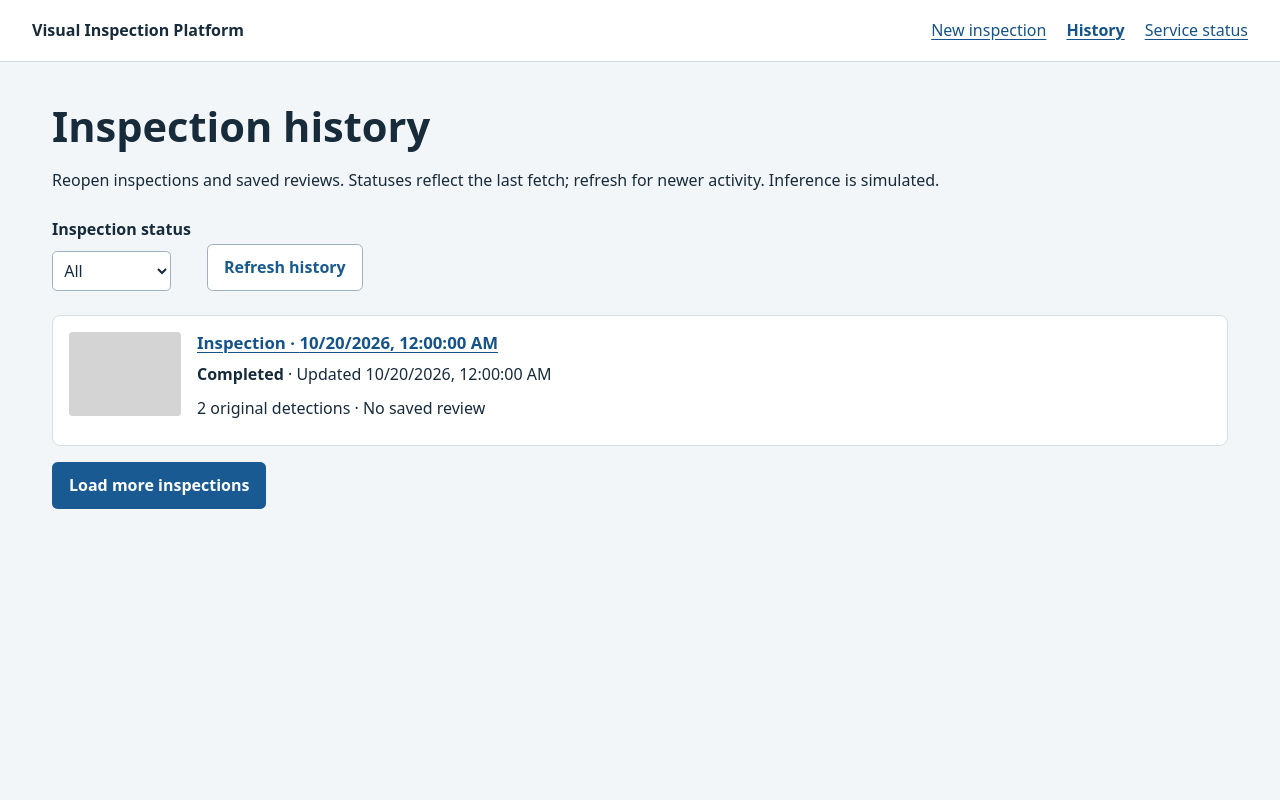
Test: inspection history › restarts from the beginning after an invalid cursor while retaining rows until the deliberate restart
This screenshot has width=1280, height=800.
Click the button "Load more inspections".
click(159, 486)  # box [52,462,266,509]
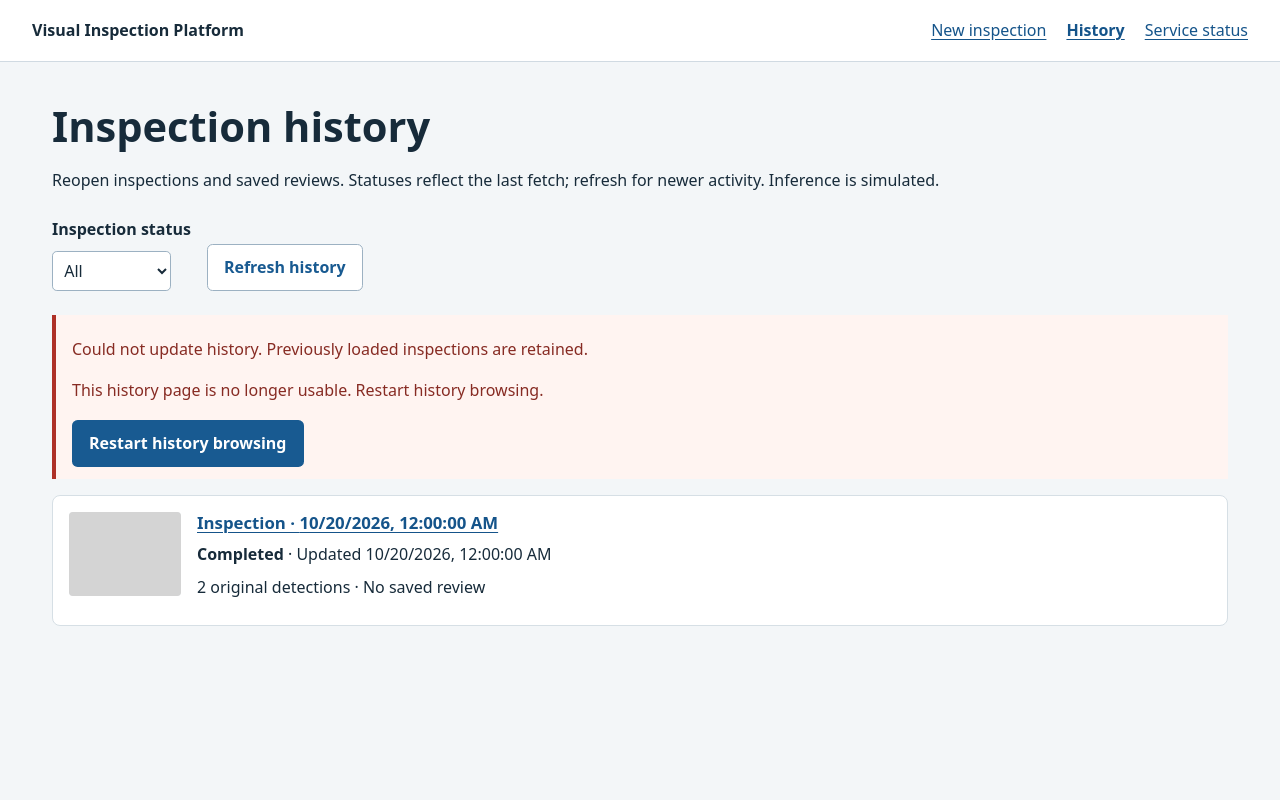
Expected: the number of list items is 1, [52,495,1228,626]
Click the button "Restart history browsing".
click(188, 443)  # box [72,420,304,467]
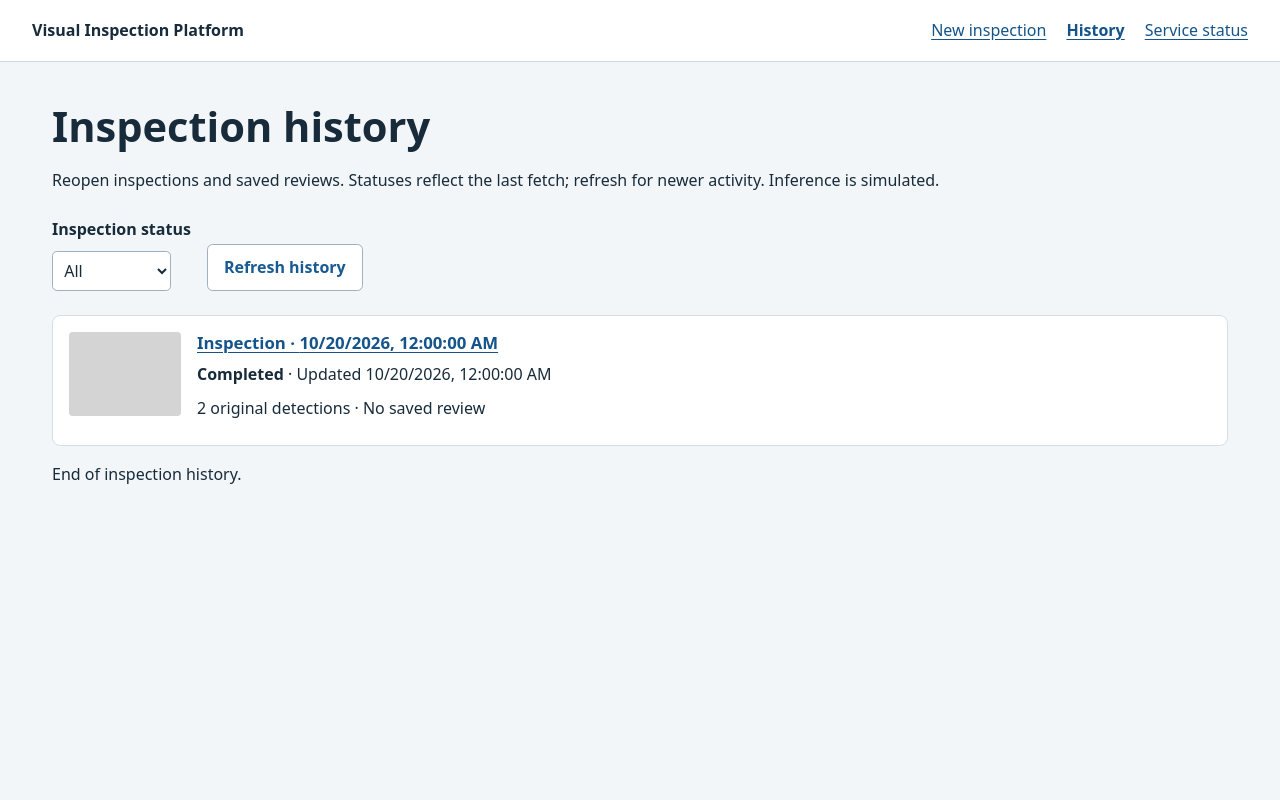
Expected: the text "End of inspection history." is shown, [52,463,242,485]
